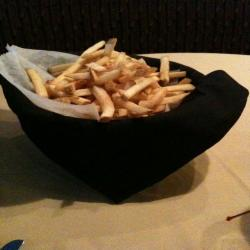fries: (26, 47, 199, 129)
